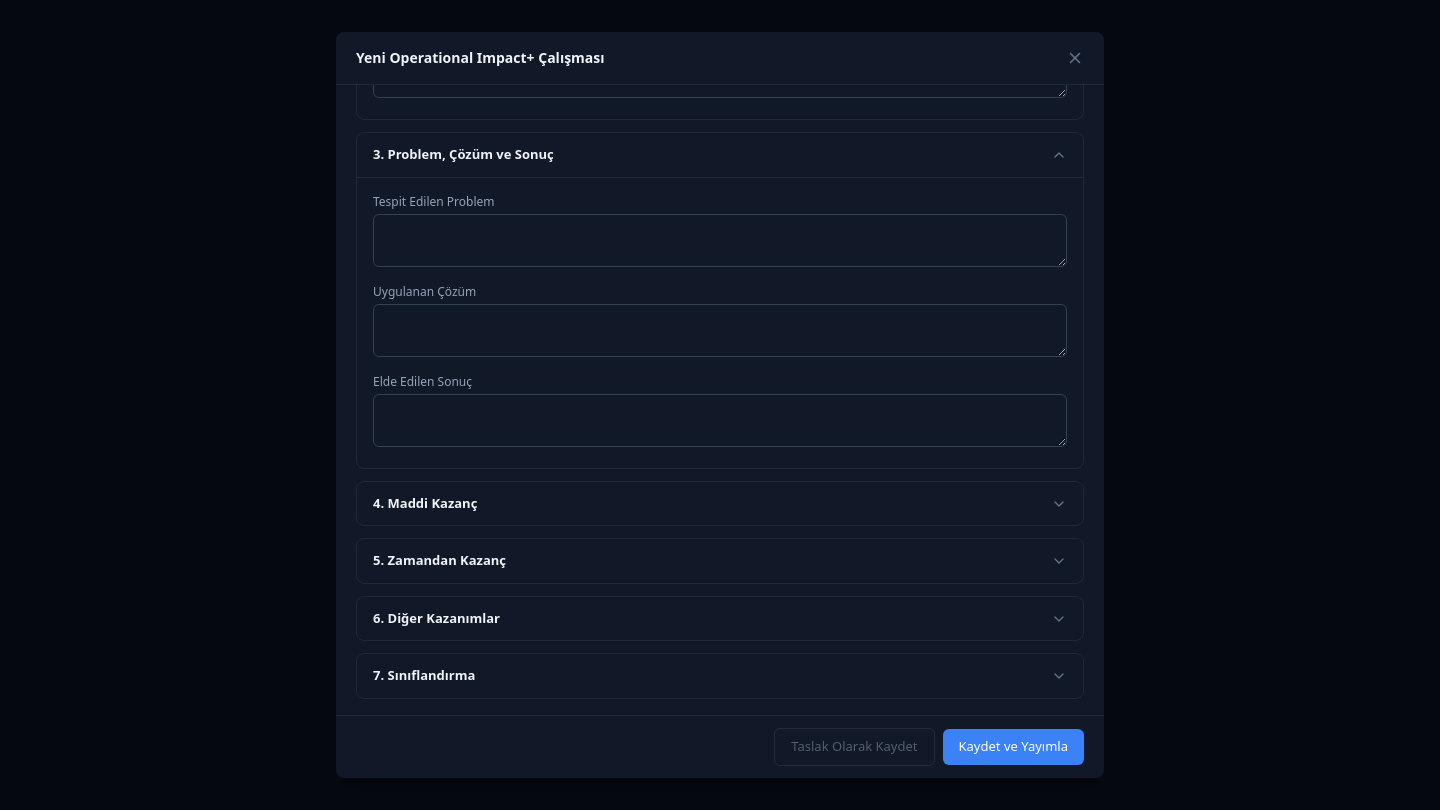
Test: ContributionWorkForm accessibility › exposes the time-saving fields with distinct accessible names
(page scrolled)
Click the button "5. Zamandan Kazanç": (439, 560) [357,539,1083,583]
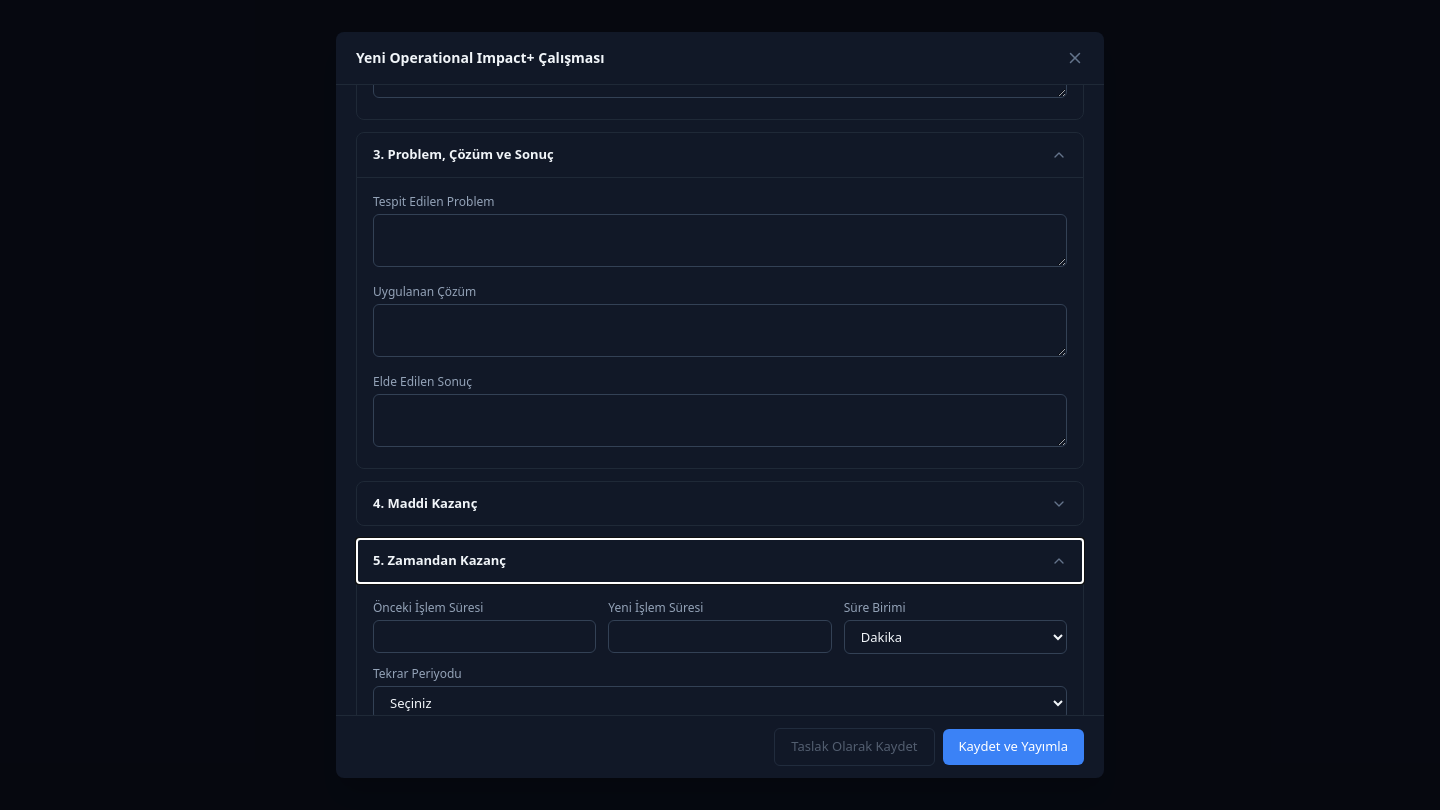
expect the number field labelled "Önceki İşlem Süresi" is shown: met, box [373,620,596,653]
expect the number field labelled "Yeni İşlem Süresi" is shown: met, box [608,620,832,653]
expect the dropdown labelled "Süre Birimi" is shown: met, box [844,620,1067,654]
